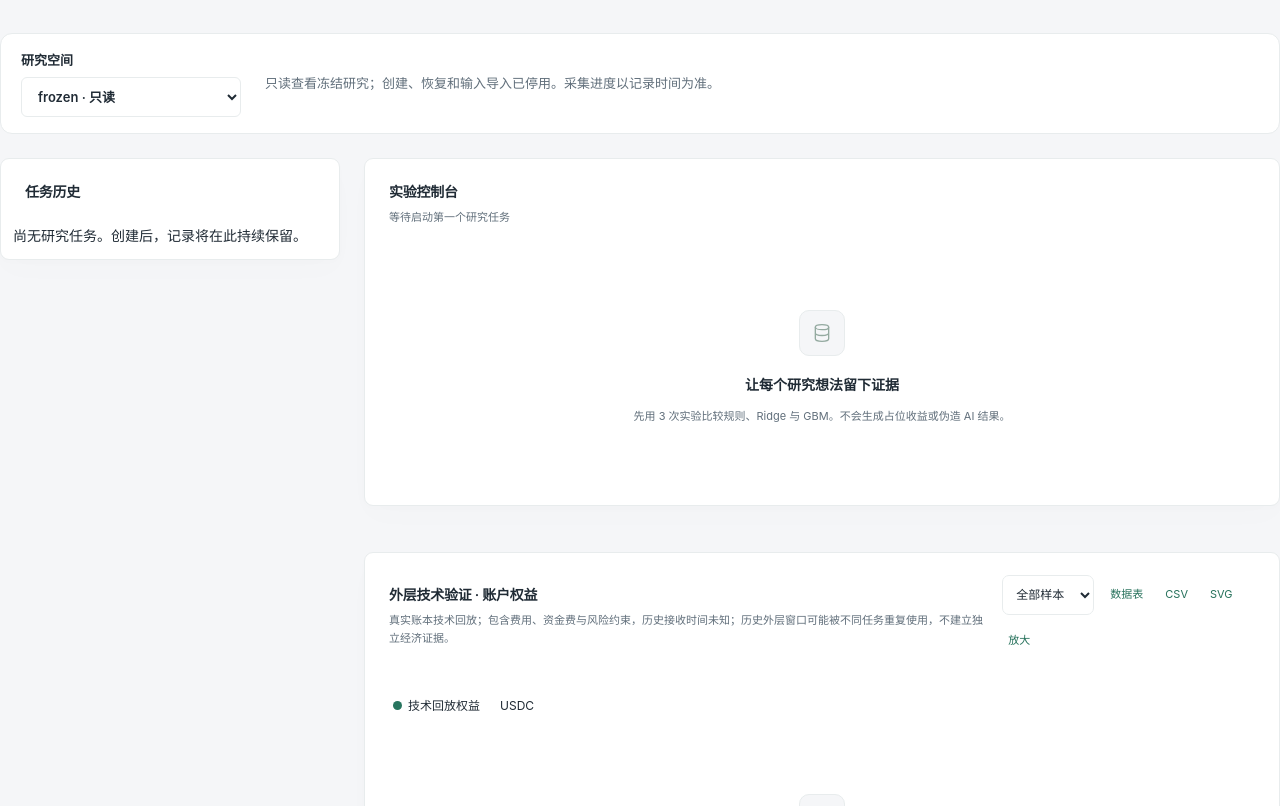
Scenario: clears the selected attempt and keeps writes disabled while a different workspace loads
Later steps or results of the test are not shown.
Select "当前研究" in the dropdown labelled "研究空间": coordinates (131, 97) [21,77,241,117]
(page scrolled)
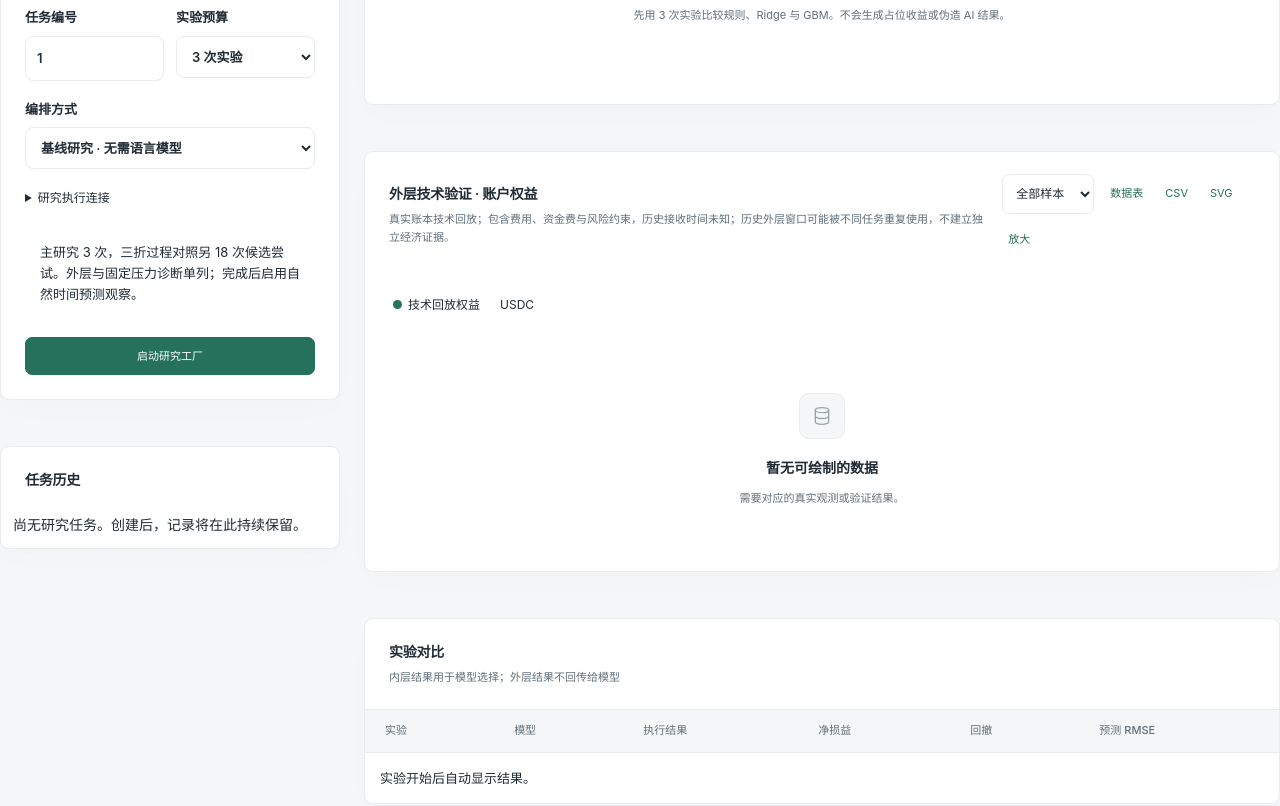
Expected: the button "启动研究工厂" is enabled, [25,337,315,375]
